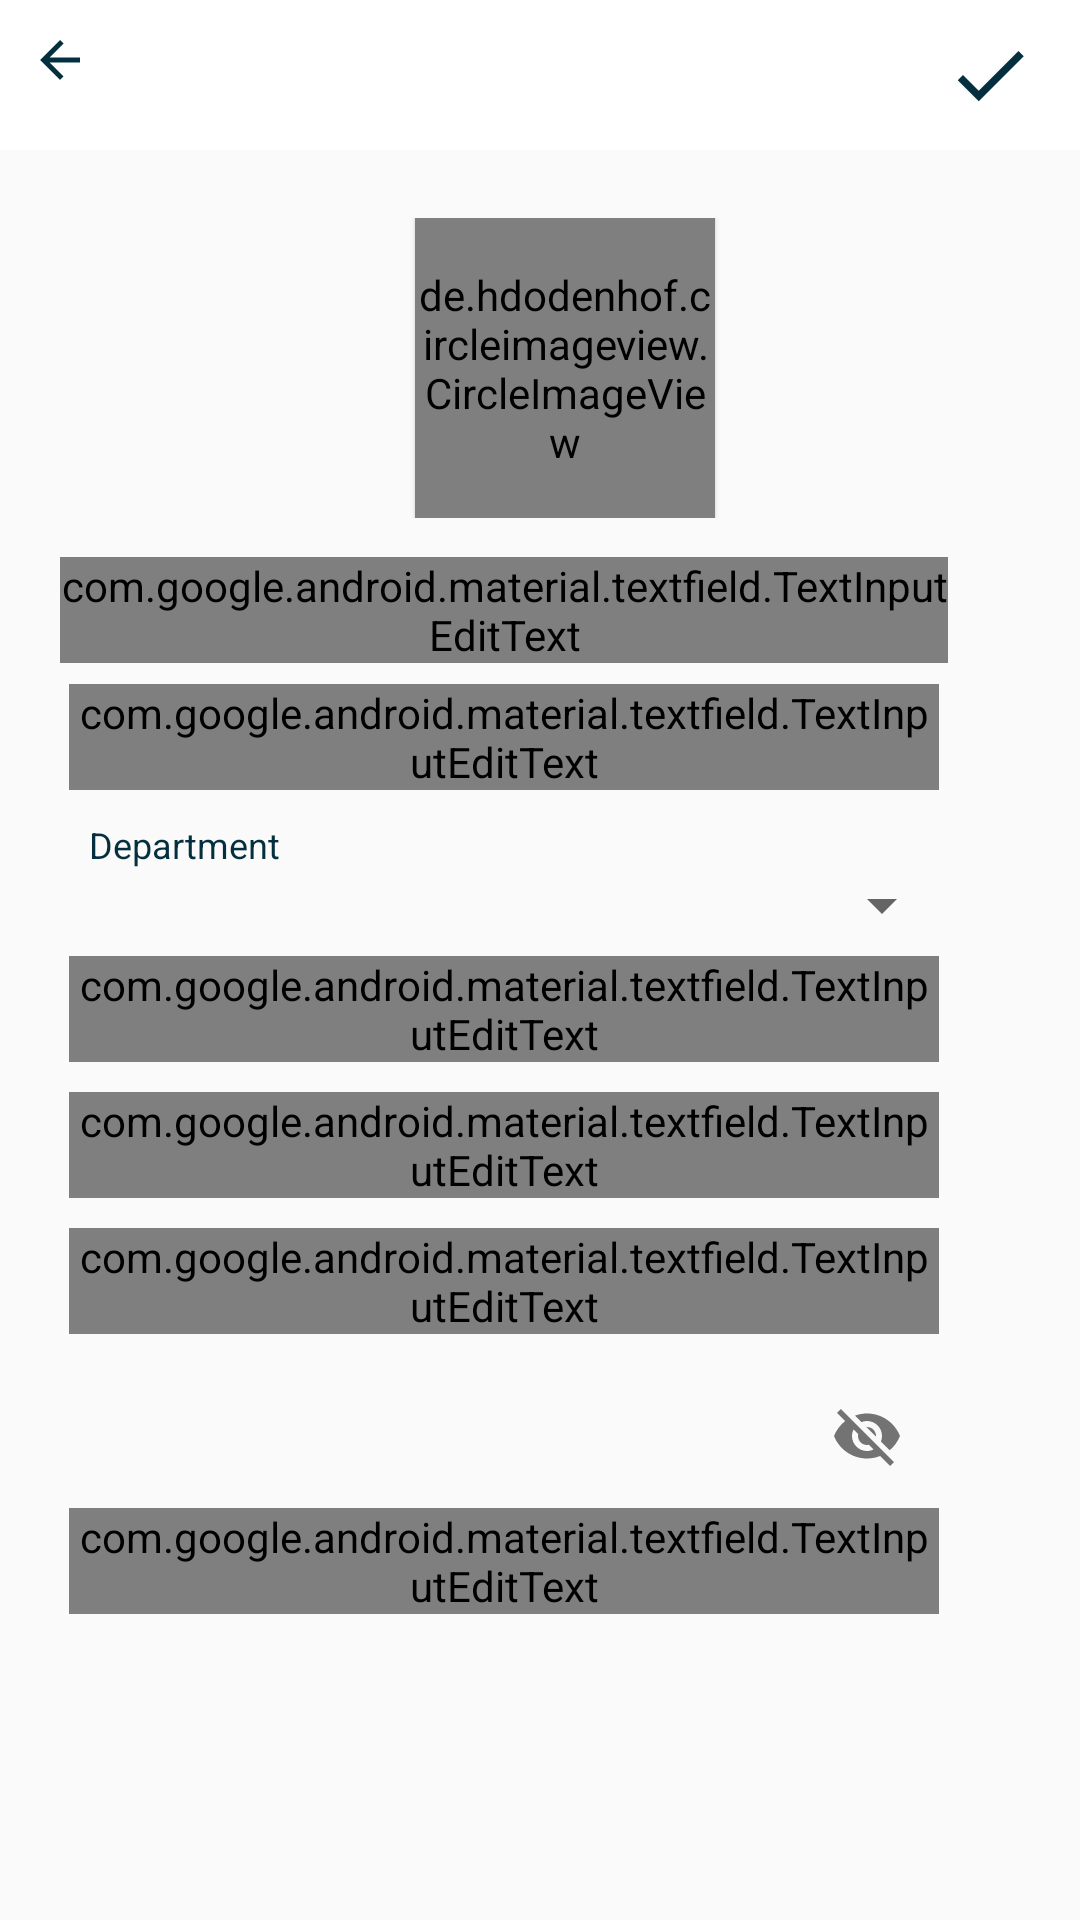

Screen size 1080x1920. Icon name, then its box in pixels as (x1, y1, x2, y2):
arrow back: (40, 40, 80, 80)
done: (958, 51, 1024, 101)
